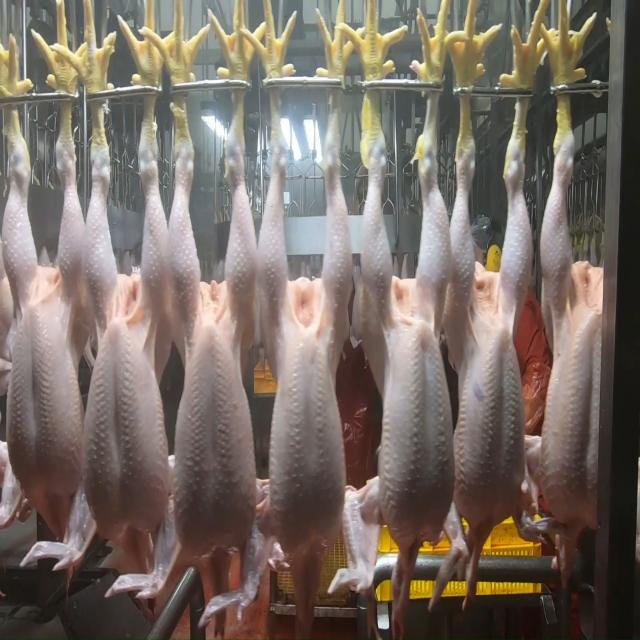chicken: (346, 99, 454, 552), (82, 112, 168, 578), (265, 108, 354, 547), (174, 136, 260, 568), (1, 118, 90, 519), (456, 95, 528, 544), (535, 132, 604, 522)
